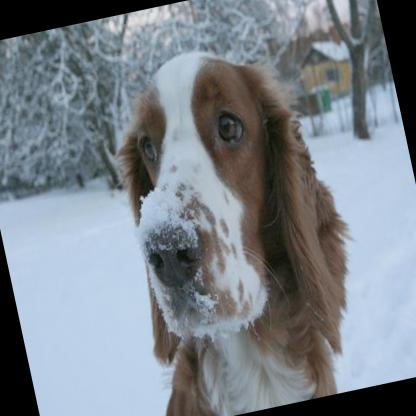Welsh_springer_spaniel: (84, 26, 384, 416)
